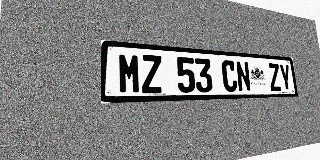3: (194, 58, 213, 93)
5: (176, 57, 196, 93)
C: (221, 60, 238, 92)
M: (118, 53, 141, 94)
N: (235, 61, 251, 92)
Y: (279, 64, 292, 91)
Z: (141, 54, 163, 93), (267, 63, 282, 91)
